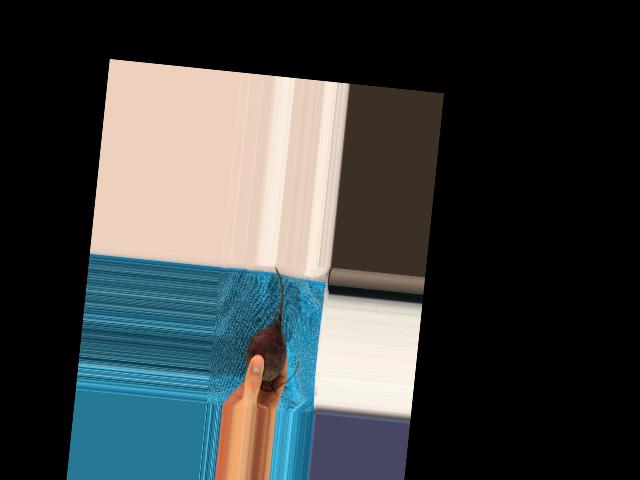beet: (242, 264, 307, 393)
